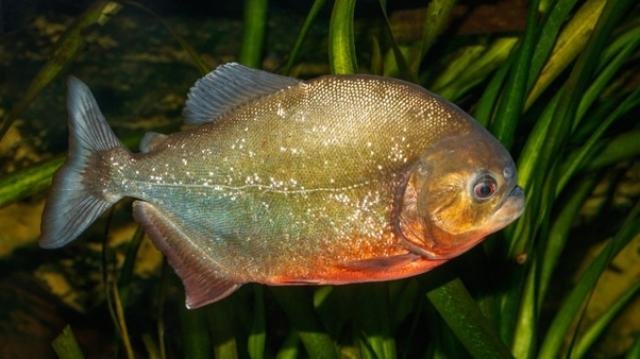Mulut: (470, 156, 546, 248)
Sirip Anal: (120, 190, 248, 328)
Sirip Dada: (323, 241, 431, 287)
Sirip Ekor: (28, 66, 136, 266)
Sirip Perut: (260, 270, 332, 312)
Sirip Punggung: (168, 49, 314, 141)
